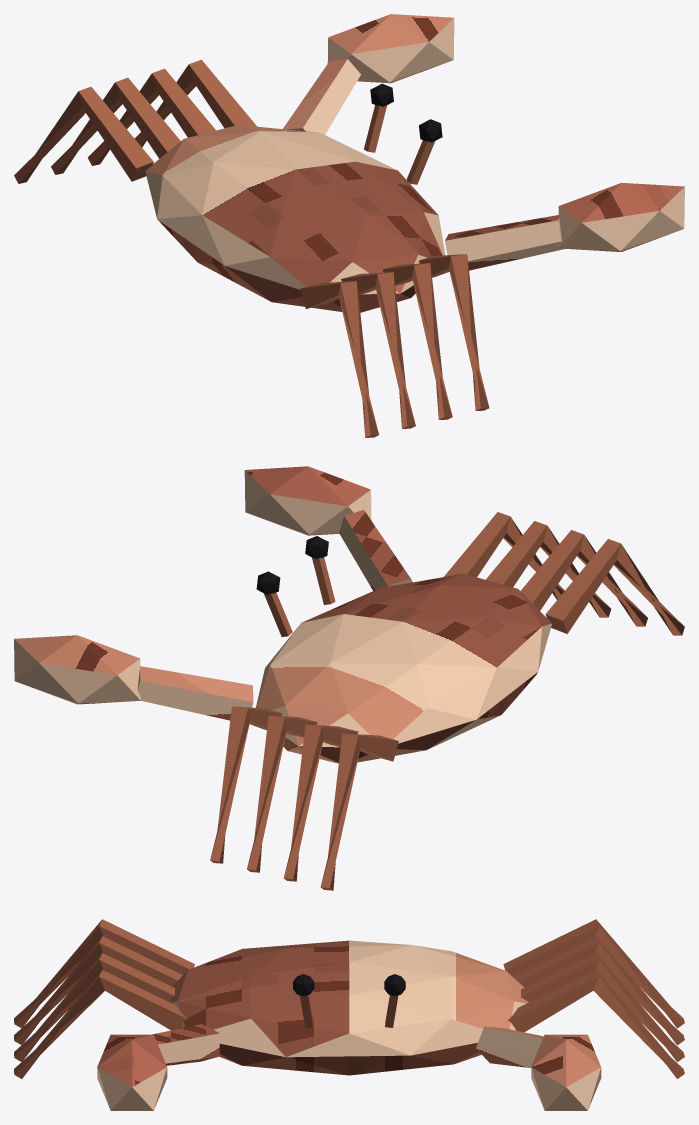
The model's file is giant_spider_crab.glb.
The picture shows the model from 3 angles, top to bottom: view 1: azimuth 30°, elevation 25°; view 2: azimuth 150°, elevation 25°; view 3: azimuth 270°, elevation 25°; orthographic projection. The views are drawn at different scales.
Parts seen in each view (by area): view 1: fish_giant_spider_crab; view 2: fish_giant_spider_crab; view 3: fish_giant_spider_crab.
Part boxes in pixels (box(x1,y1,x2,y2)): fish_giant_spider_crab: box(14, 14, 684, 437); fish_giant_spider_crab: box(14, 466, 684, 890); fish_giant_spider_crab: box(14, 919, 684, 1110).
Bounding box in the file's own units: 0.7228 × 0.2887 × 1.17.
3 materials, 1 textured.
